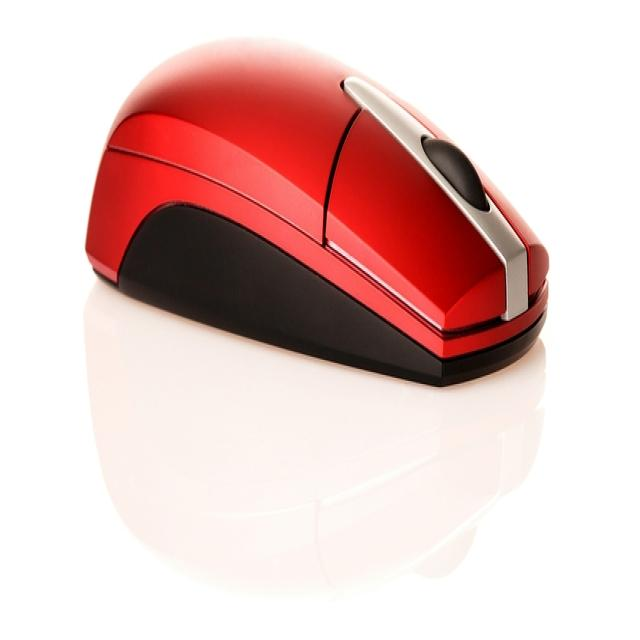mouse: (48, 4, 552, 394)
